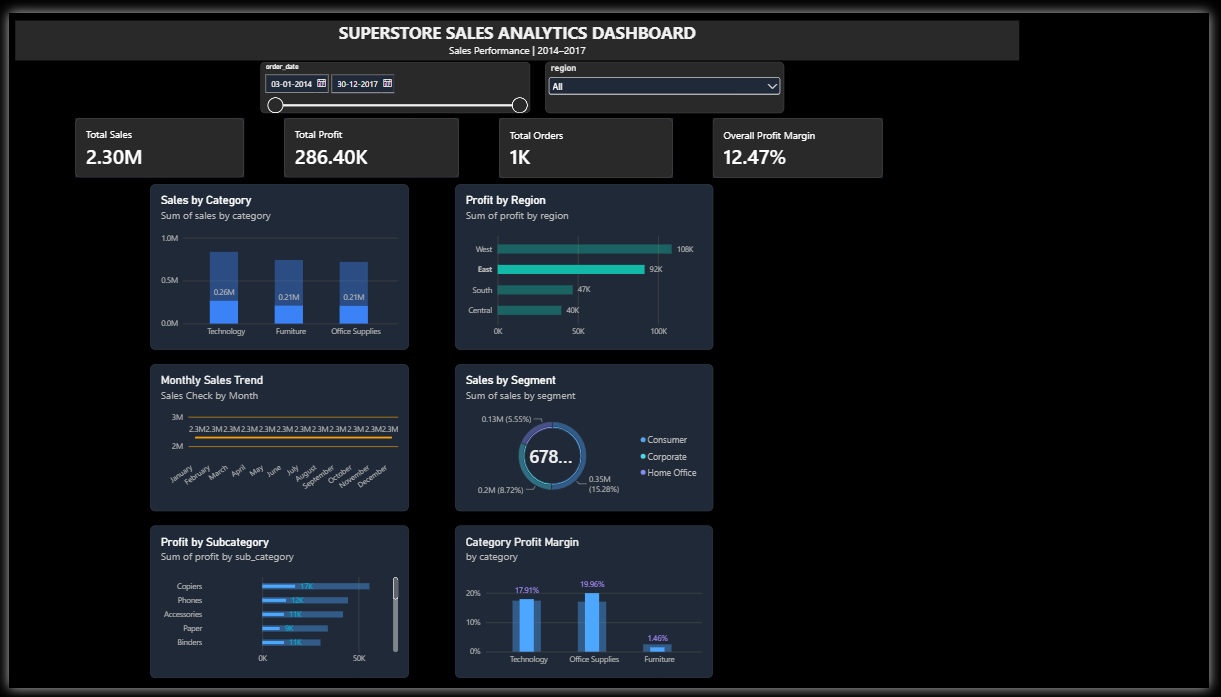

Layout of this report page (visuals, bound fields, positions):
{"tool":"powerbi","page":{"name":"Page 1","canvas":[1920,1080],"ordinal":0},"visuals":[{"type":"cardVisual","fields":{"Data":["superstore_clean.Sales Check"]},"box":[106,168,270,95],"z":0},{"type":"cardVisual","fields":{"Data":["superstore_clean.Profit Check"]},"box":[440,168,280,95],"z":1000},{"type":"cardVisual","fields":{"Data":["superstore_clean.Total Orders"]},"box":[784,168,278,96],"z":2000},{"type":"cardVisual","fields":{"Data":["superstore_clean.Overall Profit Margin"]},"box":[1126,168,272,96],"z":3000},{"type":"clusteredColumnChart","title":"Sales by Category","fields":{"Category":["public superstore_clean.category"],"Y":["Sum(public superstore_clean.sales)"]},"box":[226,274,413.8,265],"z":4000},{"type":"clusteredBarChart","title":"Profit by Region","fields":{"Category":["public superstore_clean.region"],"Y":["Sum(public superstore_clean.profit)"]},"box":[714,274,412.5,265],"z":5000},{"type":"lineChart","title":"Monthly Sales Trend","fields":{"Category":["superstore_clean.order_date.Variation.Date Hierarchy.Month"],"Y":["superstore_clean.Sales Check"]},"box":[226,562,413.8,235],"z":6000},{"type":"donutChart","title":"Sales by Segment","fields":{"Category":["public superstore_clean.segment"],"Y":["Sum(public superstore_clean.sales)"]},"box":[714,562,412.5,235],"z":7000},{"type":"clusteredBarChart","title":"Profit by Subcategory","fields":{"Category":["public superstore_clean.sub_category"],"Y":["Sum(public superstore_clean.profit)"]},"box":[226,820,413.8,243.8],"z":8000},{"type":"textbox","box":[10,12.5,1606.2,63.8],"z":10000},{"type":"slicer","fields":{"Values":["public superstore_clean.order_date"]},"box":[402,78,432,82],"z":11000},{"type":"slicer","fields":{"Values":["public superstore_clean.region"]},"box":[858,78,382,82],"z":12000},{"type":"clusteredColumnChart","fields":{"Category":["superstore_clean.category"],"Y":["superstore_clean.Category Profit Margin"]},"box":[714,820,412,244],"z":13000}]}

Visuals, with their boxes in screenshot pixels (x1, y1, x2, y2), scaled from the page's 1920x1080 canvas onto the 1221x697 screenshot:
cardVisual - superstore_clean.Sales Check: (left=67, top=108, right=239, bottom=170)
cardVisual - superstore_clean.Profit Check: (left=280, top=108, right=458, bottom=170)
cardVisual - superstore_clean.Total Orders: (left=499, top=108, right=675, bottom=170)
cardVisual - superstore_clean.Overall Profit Margin: (left=716, top=108, right=889, bottom=170)
"Sales by Category" clusteredColumnChart: (left=144, top=177, right=407, bottom=348)
"Profit by Region" clusteredBarChart: (left=454, top=177, right=716, bottom=348)
"Monthly Sales Trend" lineChart: (left=144, top=363, right=407, bottom=514)
"Sales by Segment" donutChart: (left=454, top=363, right=716, bottom=514)
"Profit by Subcategory" clusteredBarChart: (left=144, top=529, right=407, bottom=687)
textbox: (left=6, top=8, right=1028, bottom=49)
slicer - public superstore_clean.order_date: (left=256, top=50, right=530, bottom=103)
slicer - public superstore_clean.region: (left=546, top=50, right=789, bottom=103)
clusteredColumnChart - superstore_clean.category x superstore_clean.Category Profit Margin: (left=454, top=529, right=716, bottom=687)
